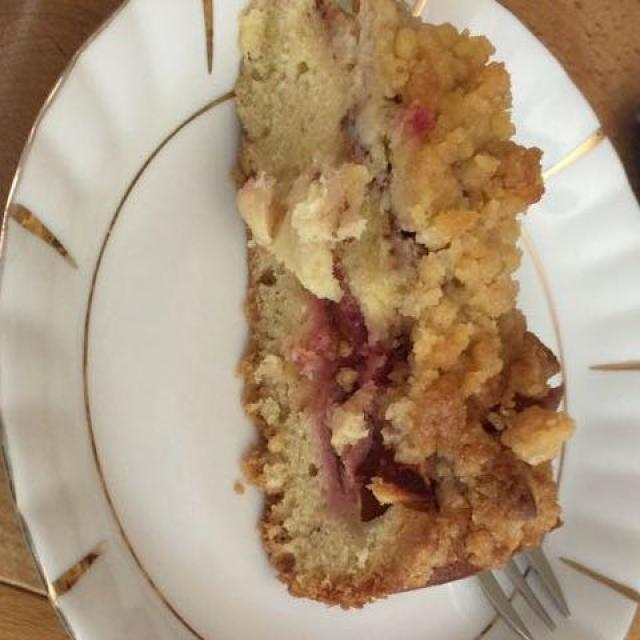tart: (239, 17, 565, 597)
